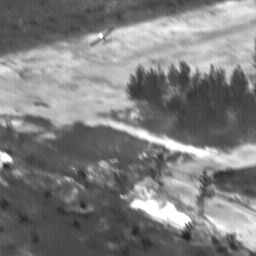aircraft: (100, 34, 102, 36)
